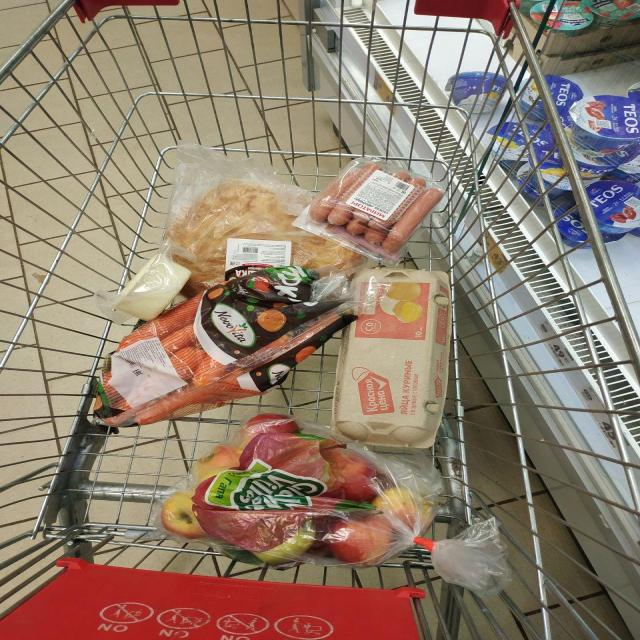Apple: (327, 514, 395, 564), (253, 519, 315, 564), (162, 489, 207, 538), (192, 445, 242, 483), (372, 488, 418, 529), (343, 464, 377, 501), (243, 414, 298, 436)
Bread: (167, 180, 365, 298)
Carrot: (135, 375, 237, 425), (118, 295, 202, 348), (170, 346, 208, 381), (162, 324, 197, 354), (192, 356, 225, 386)
Cheese: (113, 250, 192, 319)
Eggs: (332, 269, 448, 448)
Sausages: (293, 158, 443, 264)
